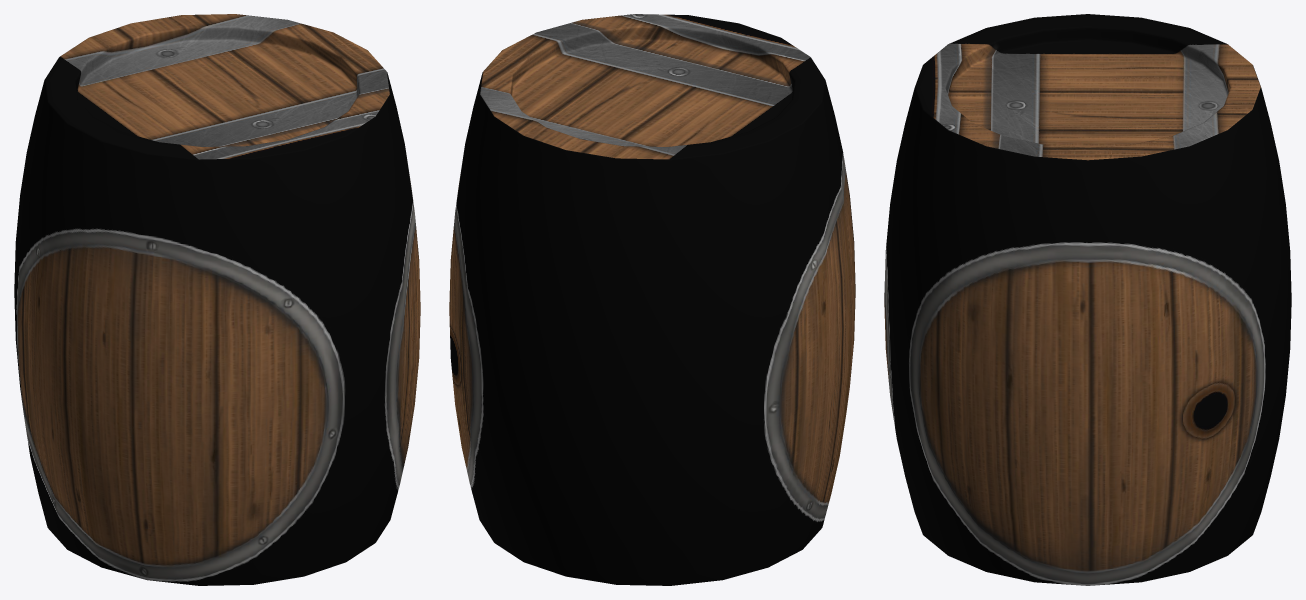
File: Barrel2.fbx
The picture shows the model from 3 angles, left to right: view 1: azimuth 30°, elevation 25°; view 2: azimuth 150°, elevation 25°; view 3: azimuth 270°, elevation 25°; orthographic projection.
Visible parts, largest first — view 1: Barrel; view 2: Barrel; view 3: Barrel.
Part boxes in pixels (bbox=[...]): Barrel: bbox=[14, 14, 420, 585]; Barrel: bbox=[449, 14, 855, 585]; Barrel: bbox=[884, 14, 1291, 585].
Bounding box in the file's own units: 6.89 × 7.94 × 6.88.
Materials: 1 (1 with a texture image).
